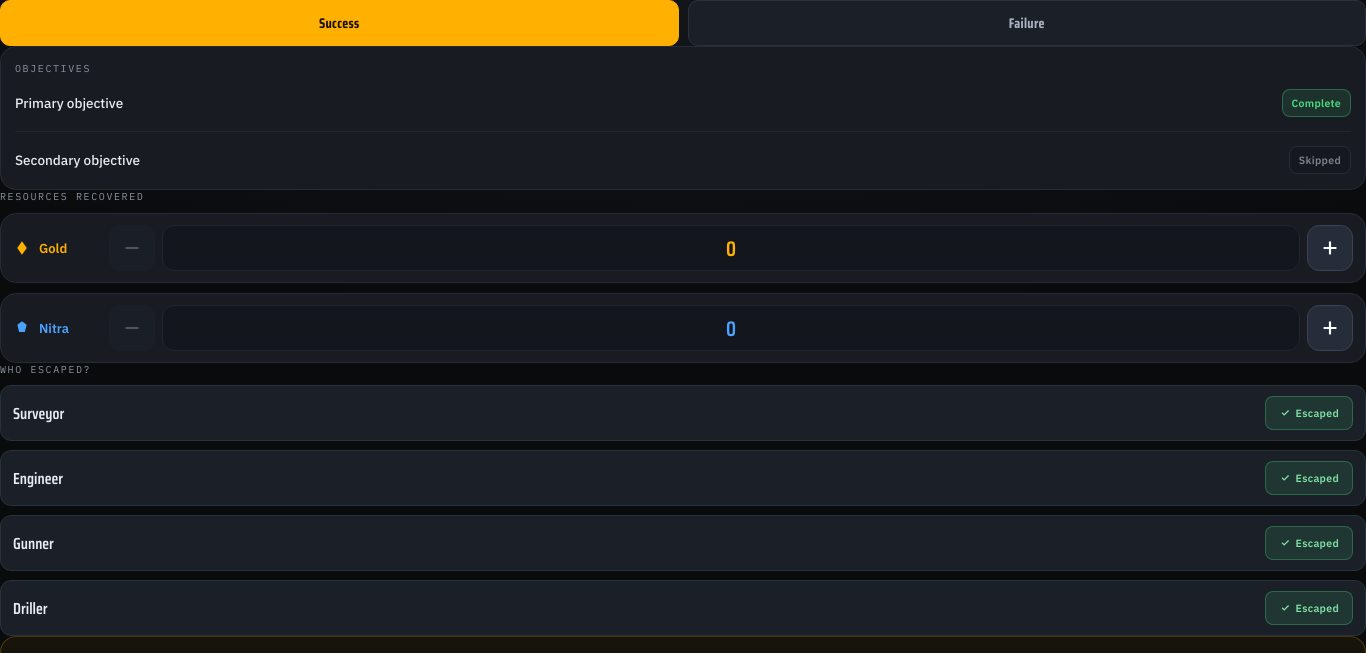
Test: EndMissionScreen › marking a dwarf Left Behind reduces the gold-split survivor count
What coordinates should you click on to do the following:
click the button "Escaped" in the row of "Surveyor"
I would click on:
 (1309, 413)
Its box is [1264,396,1353,430].
(page scrolled)
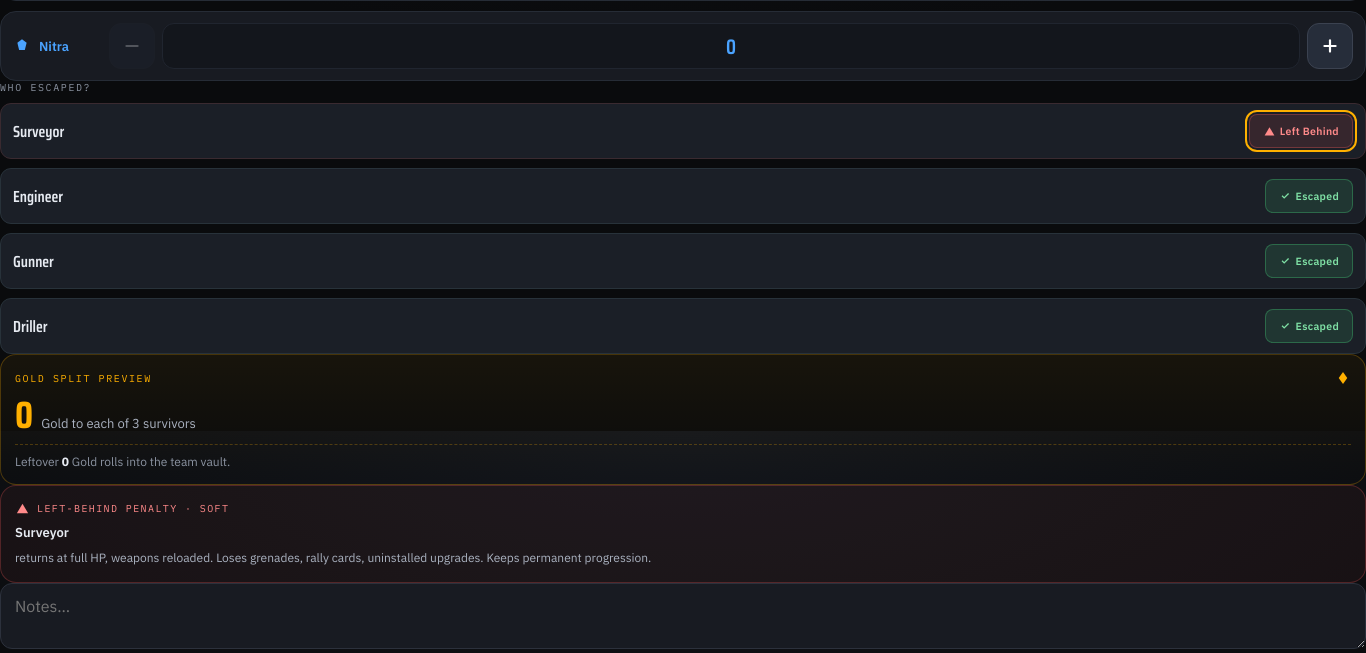
Result: the text "Gold to each of 3 survivors" is shown at [41,415,196,432]
Result: the text "Left-Behind Penalty · soft" is shown at [37,502,229,515]
